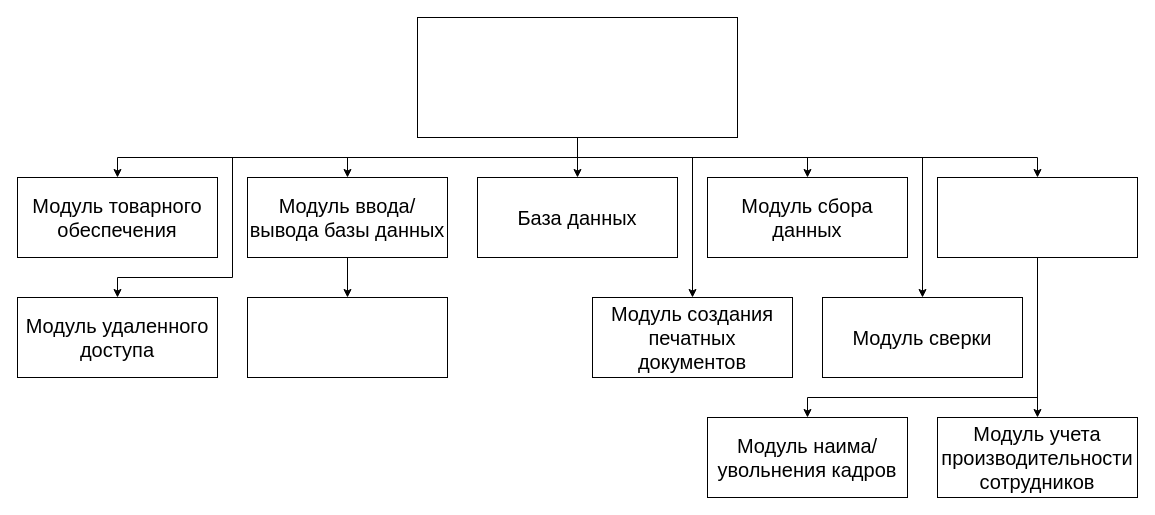
This 1155x515 diagram has some shape labels left out. Here are the shapes that lost their labels. From the top down, the centre of each, then its label:
At point 577,77: "Система учета товаров на складе".
At point 1037,217: "Модуль кадрового учета".
At point 347,337: "Модуль складского учета".
